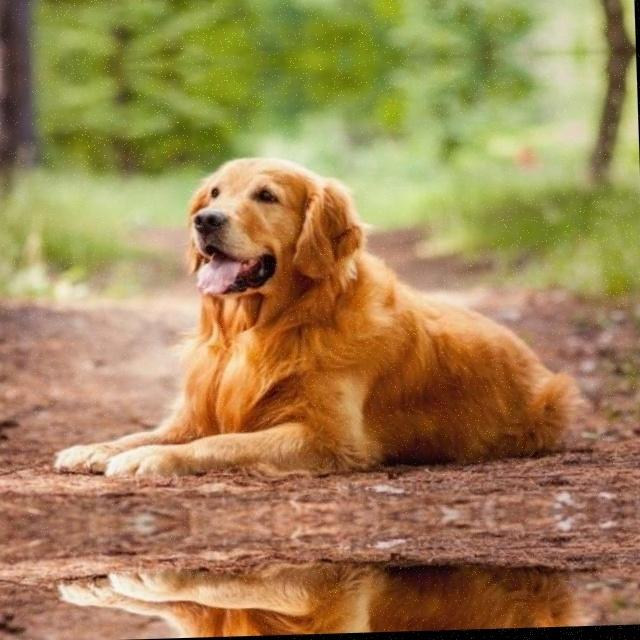dog: (27, 148, 590, 493), (39, 542, 596, 640)
